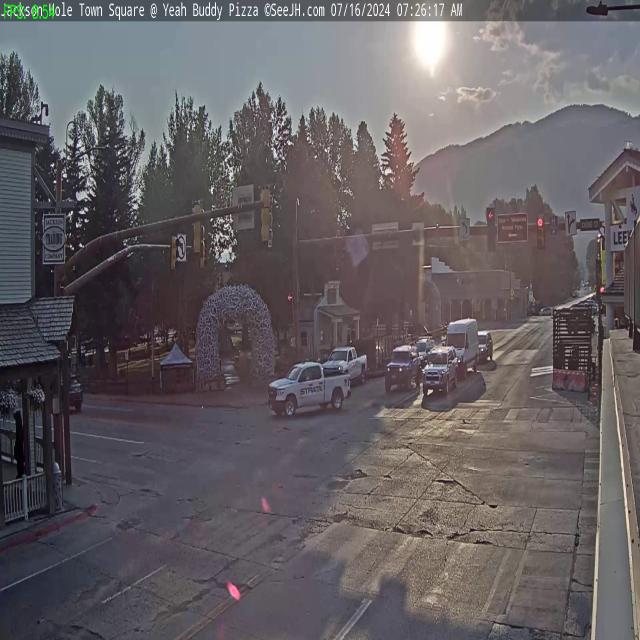pickup: (268, 360, 352, 416), (323, 342, 367, 391)
suv: (422, 343, 459, 398), (384, 342, 422, 393), (477, 328, 495, 362), (68, 375, 83, 413)
traffic light: (260, 184, 272, 246), (190, 199, 203, 256), (169, 232, 180, 280), (487, 208, 495, 254), (536, 215, 544, 248)
van: (445, 319, 479, 375)
